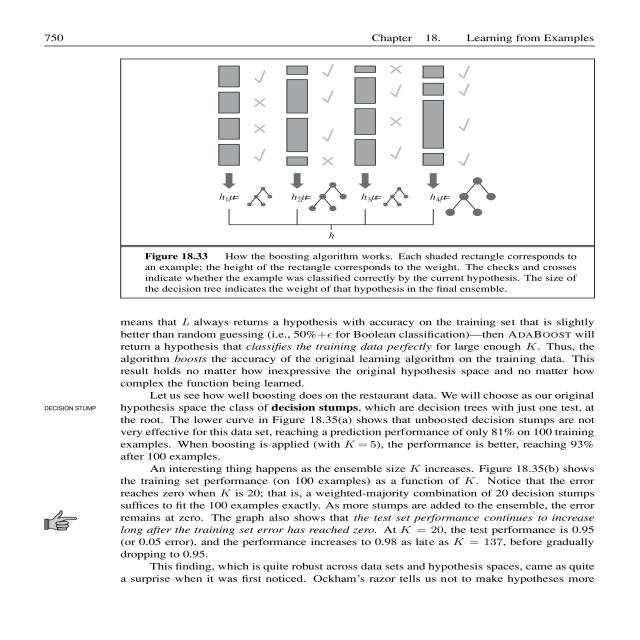diagram: (117, 59, 625, 298)
